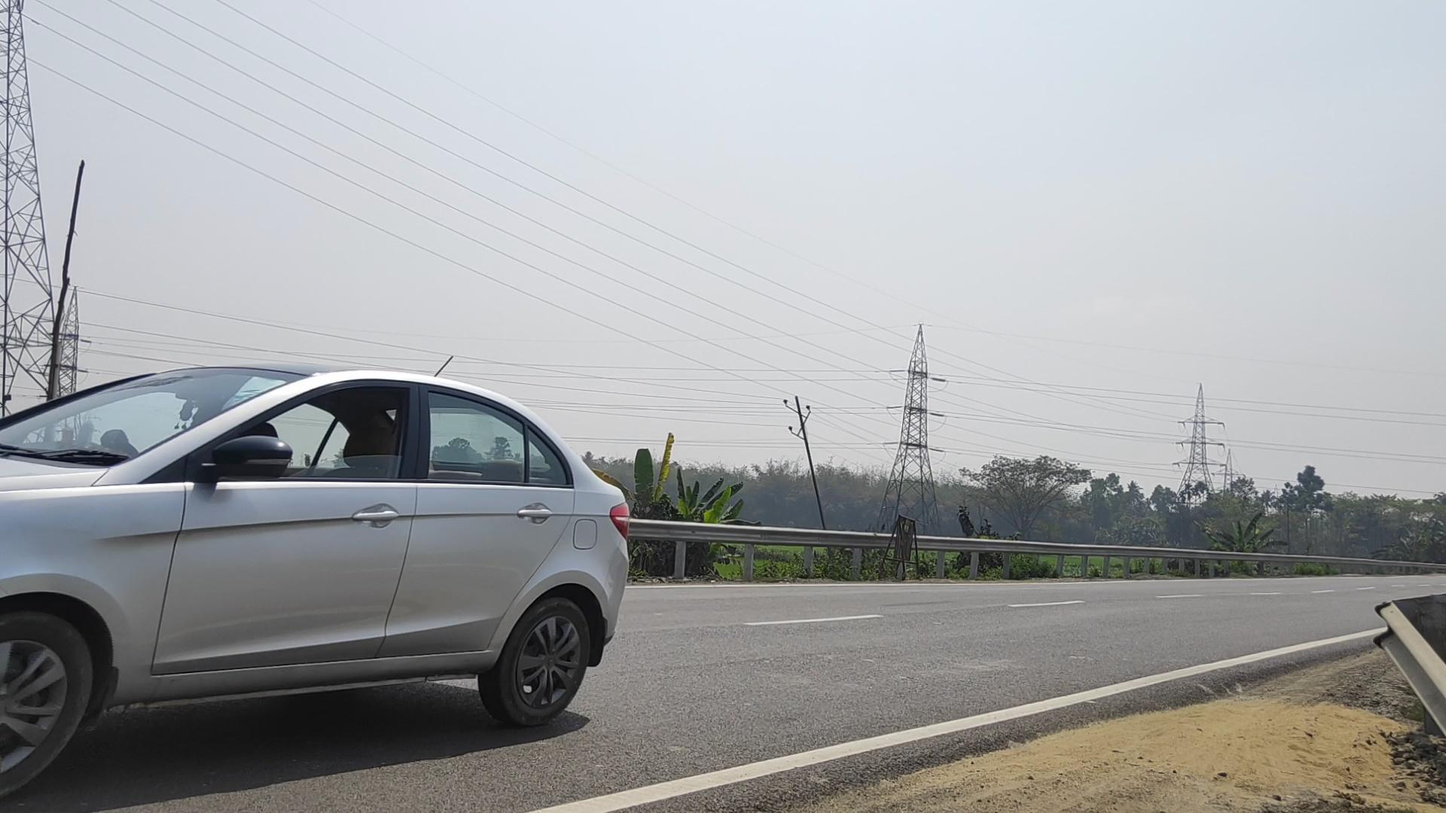car: (2, 359, 630, 805)
